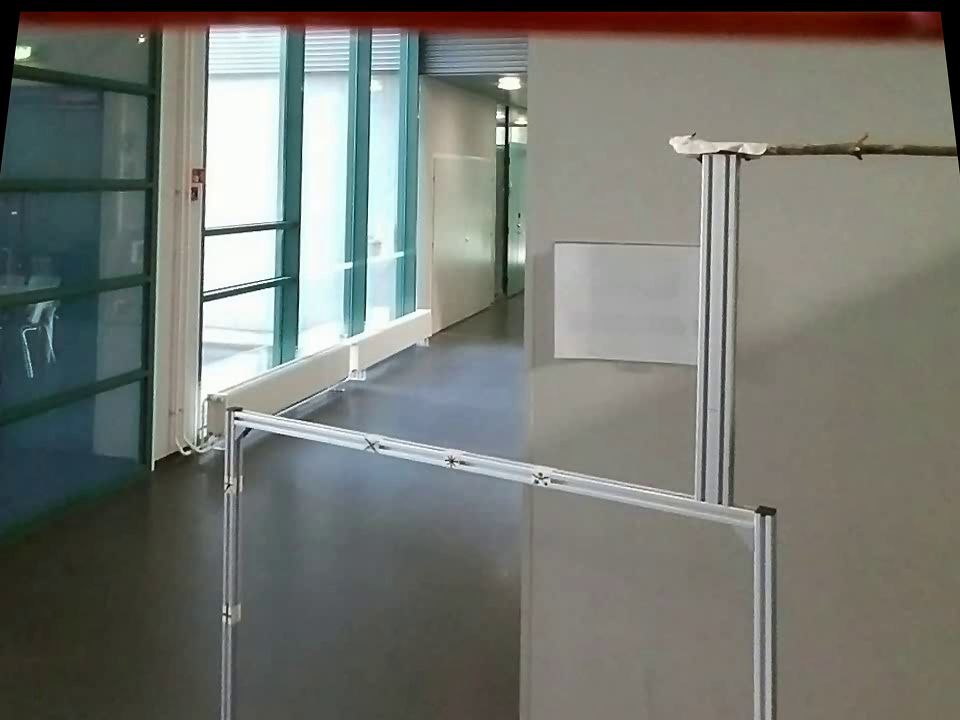aluminum_frame: (221, 394, 788, 557), (690, 150, 742, 508), (213, 401, 246, 715), (749, 495, 782, 717)
branch: (767, 126, 950, 167)
